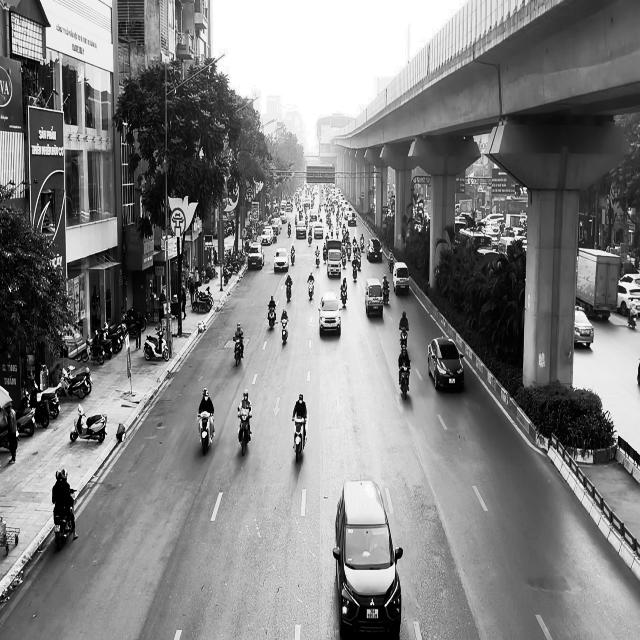car: (332, 477, 403, 638), (428, 337, 464, 391), (318, 291, 340, 337), (574, 308, 594, 348), (365, 278, 383, 317), (392, 261, 410, 295), (367, 238, 382, 262), (274, 248, 288, 272)
motorbike: (70, 403, 107, 443), (53, 489, 77, 550), (144, 327, 170, 361), (197, 411, 214, 455), (237, 406, 252, 455), (292, 416, 307, 462), (398, 360, 411, 399), (232, 335, 244, 366), (267, 304, 276, 329), (280, 317, 288, 343), (399, 328, 408, 350), (285, 278, 292, 301), (340, 284, 347, 307), (307, 278, 314, 300), (382, 283, 389, 304)
truck: (575, 247, 622, 321)
